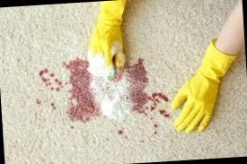wine: (123, 61, 174, 127), (60, 55, 97, 124), (37, 65, 64, 93), (34, 95, 61, 111), (111, 126, 132, 141)
